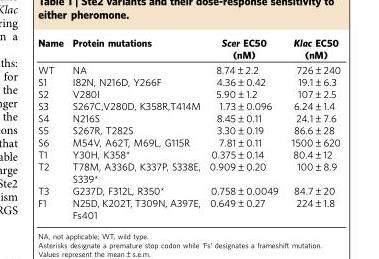table: (37, 37, 340, 220)
table column: (67, 37, 204, 220), (204, 37, 284, 220), (284, 37, 340, 220), (37, 37, 67, 220)
table column header: (37, 37, 340, 61)
table row: (37, 195, 340, 220), (37, 37, 340, 61), (37, 159, 340, 183), (37, 61, 340, 75), (37, 75, 340, 87), (37, 87, 340, 99), (37, 99, 340, 111), (37, 111, 340, 123), (37, 123, 340, 135), (37, 135, 340, 147), (37, 147, 340, 159), (37, 183, 340, 195)
